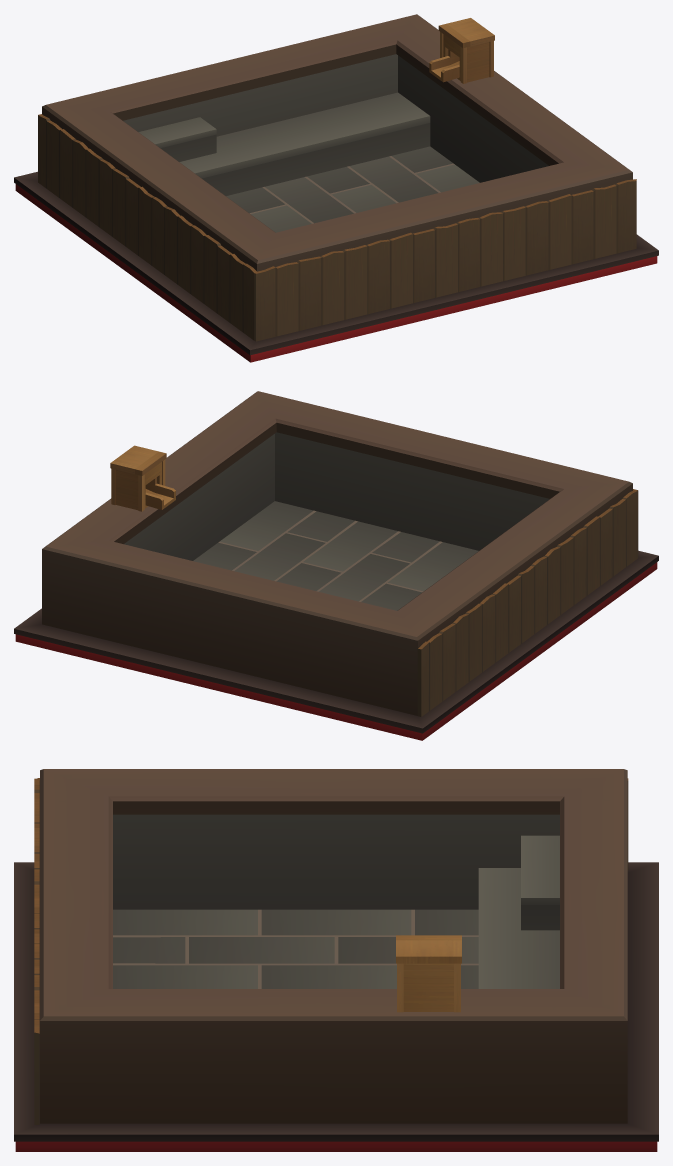
Rendered from SK_onsen_Bath.FBX.
The picture shows the model from 3 angles, top to bottom: view 1: azimuth 30°, elevation 25°; view 2: azimuth 150°, elevation 25°; view 3: azimuth 270°, elevation 25°; orthographic projection. The views are drawn at different scales.
Visible parts, largest first — view 1: SK_onsen_bath, SK_onsen_bath_wood; view 2: SK_onsen_bath, SK_onsen_bath_wood; view 3: SK_onsen_bath, SK_onsen_bath_wood.
Boxes of the visible parts, x1,y1,x2,y2 form: SK_onsen_bath: (14,14,658,362); SK_onsen_bath_wood: (38,18,636,341); SK_onsen_bath: (14,391,658,740); SK_onsen_bath_wood: (110,445,638,716); SK_onsen_bath: (14,769,658,1151); SK_onsen_bath_wood: (34,778,628,1124).
Size of the model in its own units: 302 by 92.92 by 302.
